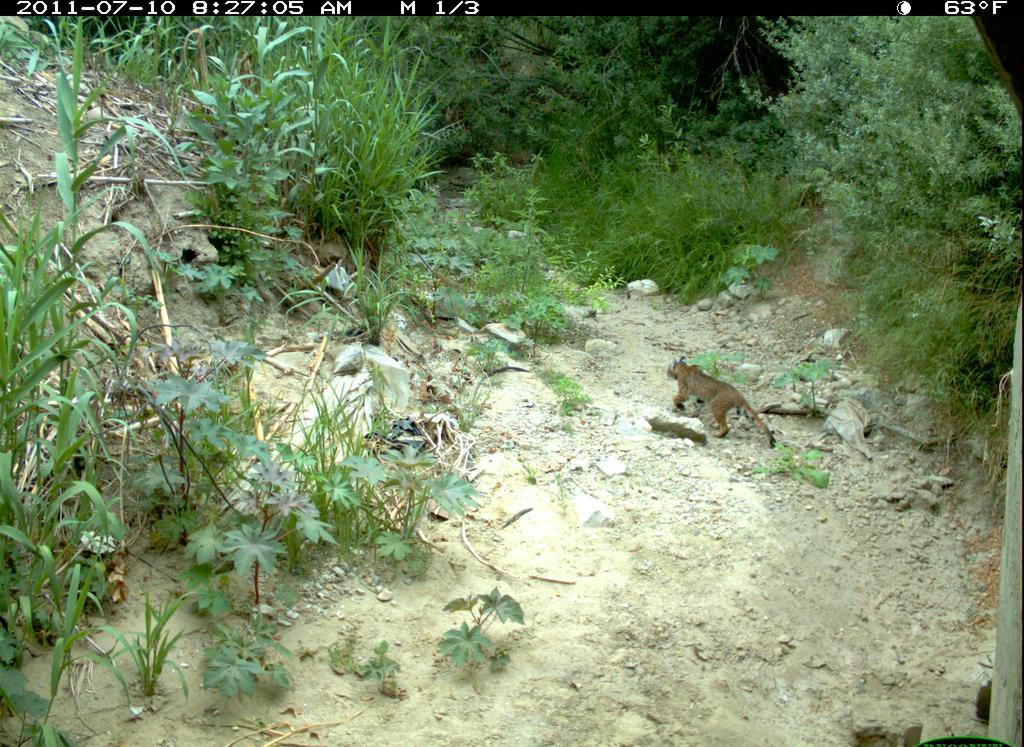bobcat: (666, 355, 780, 454)
